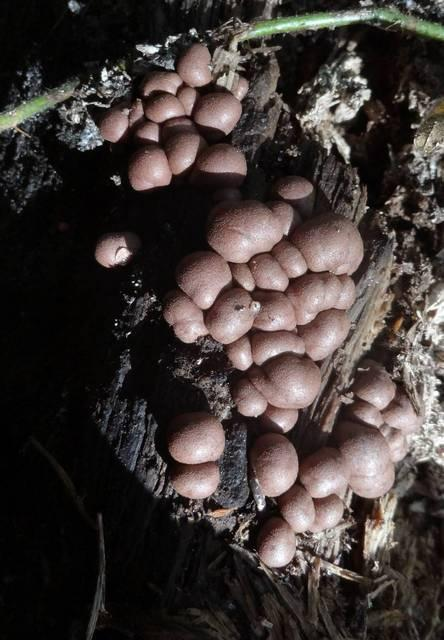poisonous_mushroom: (92, 39, 422, 568), (162, 174, 365, 430), (97, 41, 249, 192), (164, 410, 226, 465), (255, 515, 297, 568), (167, 461, 221, 499), (93, 229, 141, 269)
